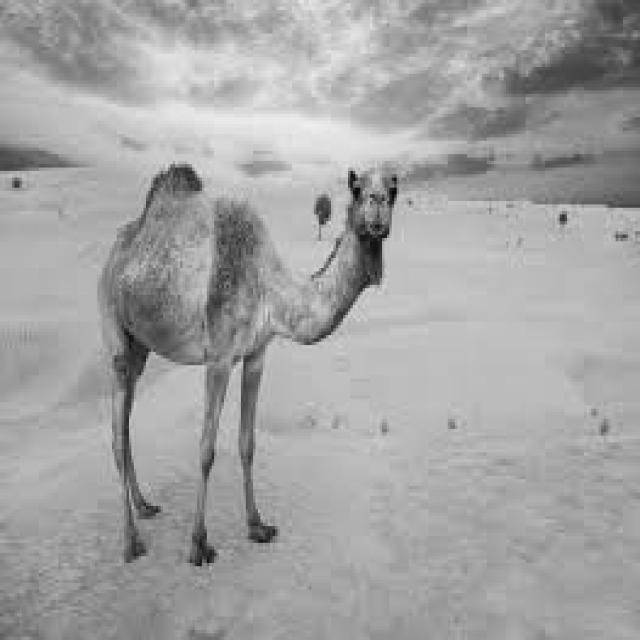Camel: (95, 158, 397, 566)
